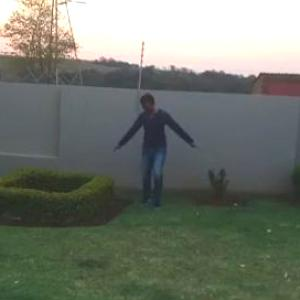land: (107, 85, 207, 224)
